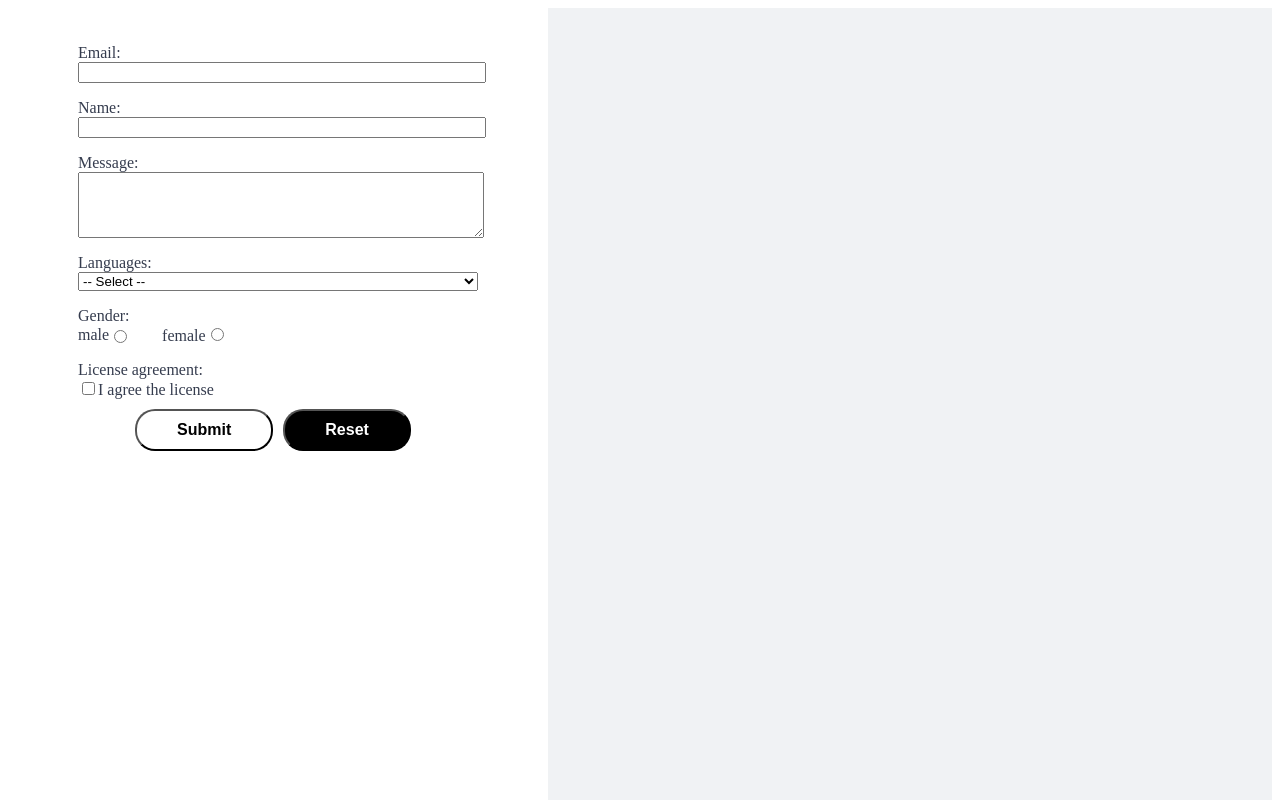
Test: App › resets the form when the reset button is clicked
Note: Fill in the form fields
Type "test@example.com" into the field labelled "Email:" at (282, 72), box [78,62,486,83]
Type "John Doe" into the field labelled "Name:" at (282, 128), box [78,117,486,138]
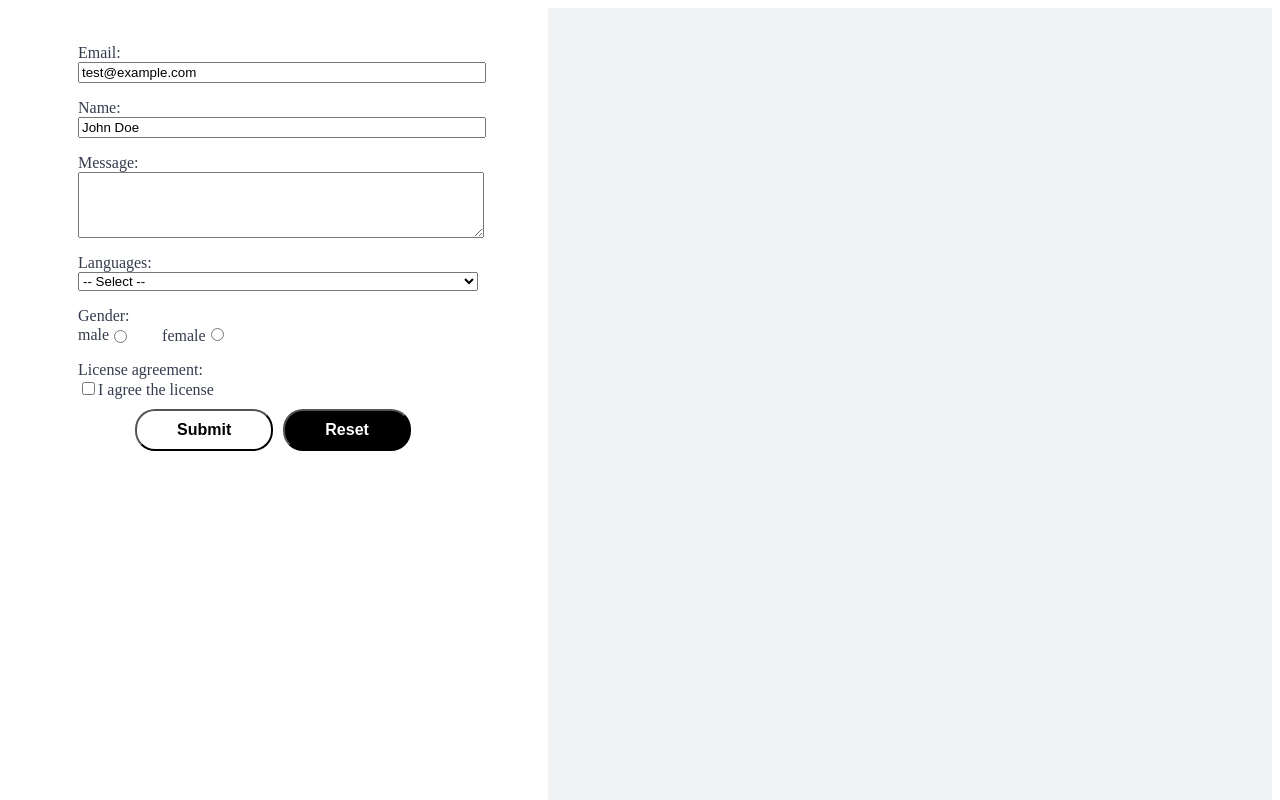
Type "Hello, World!" into the text box labelled "Message:" at (281, 205), box [78,172,484,238]
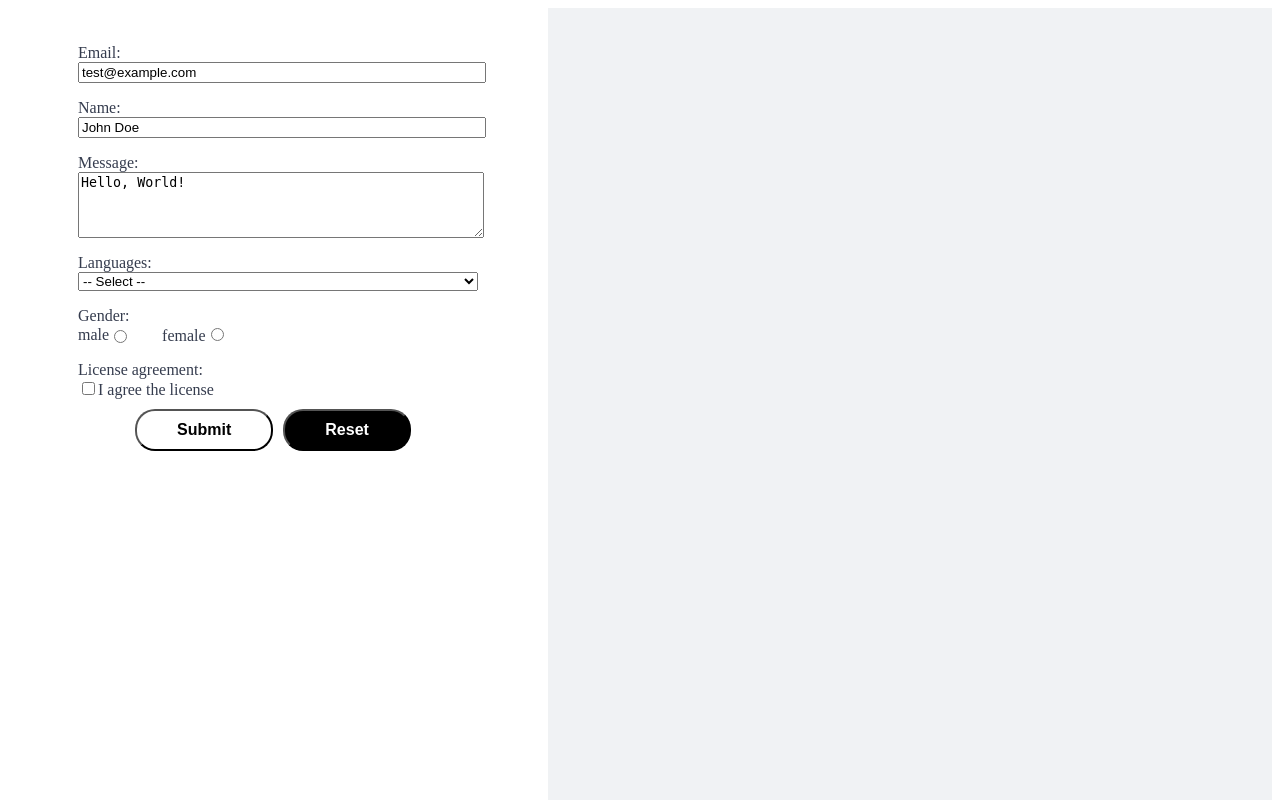
Select "English" in the dropdown labelled "Languages:" at (278, 282), box [78,272,478,291]
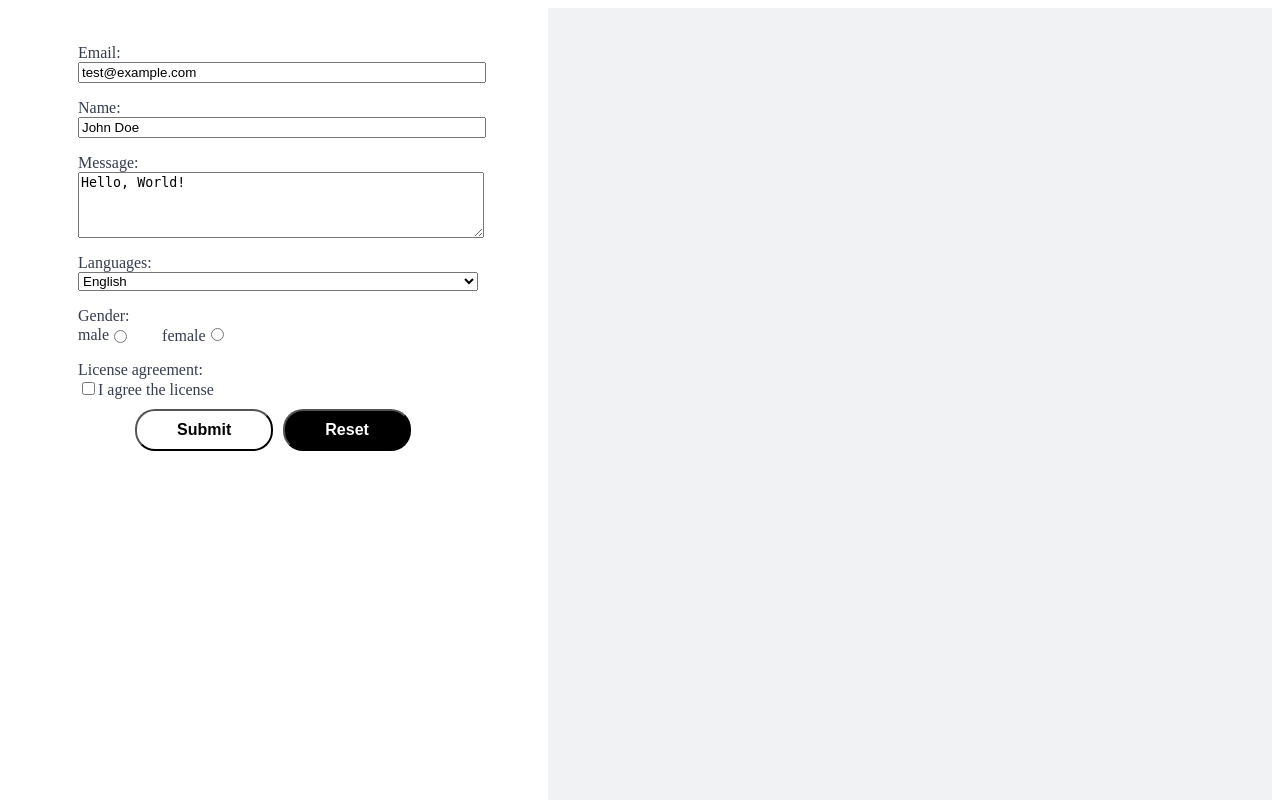
Click the radio button labelled "male" at (121, 336), box [114,330,127,343]
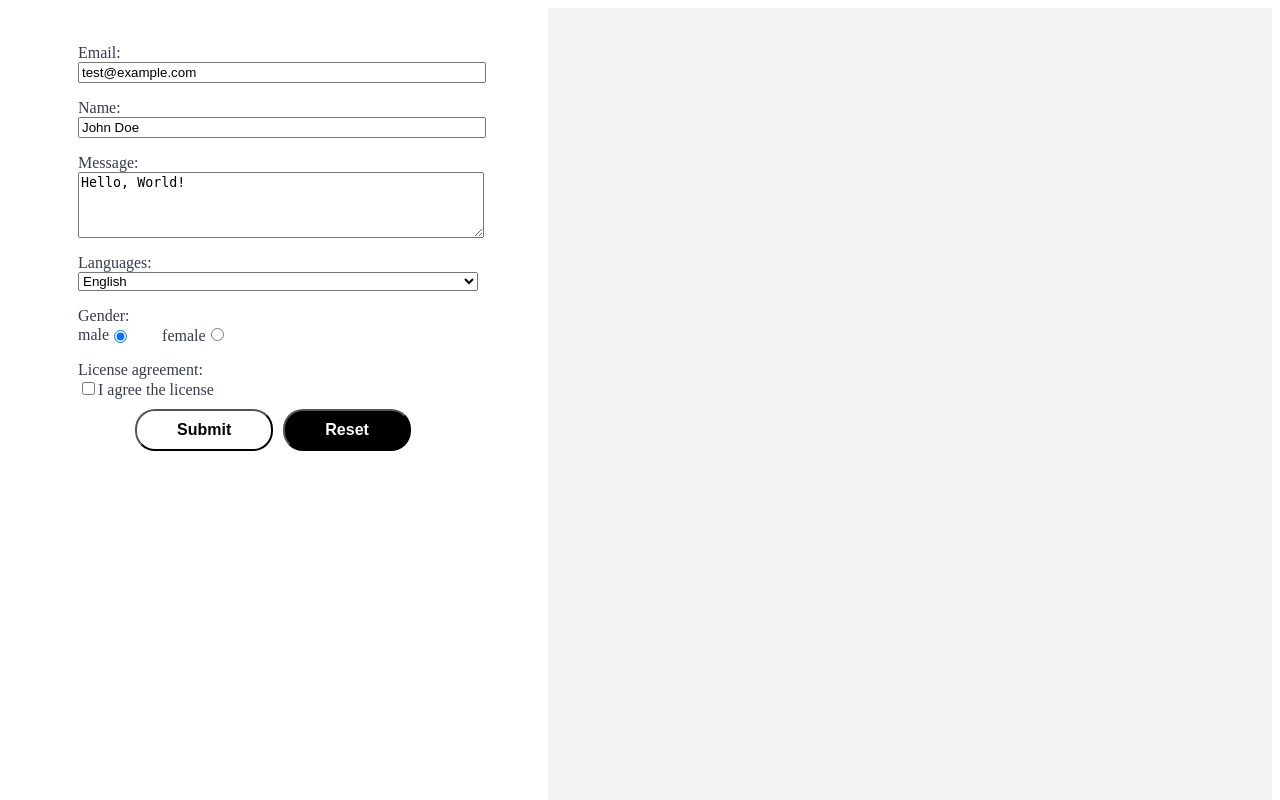
Click the checkbox labelled "License agreement:" at (88, 388), box [82,382,95,395]
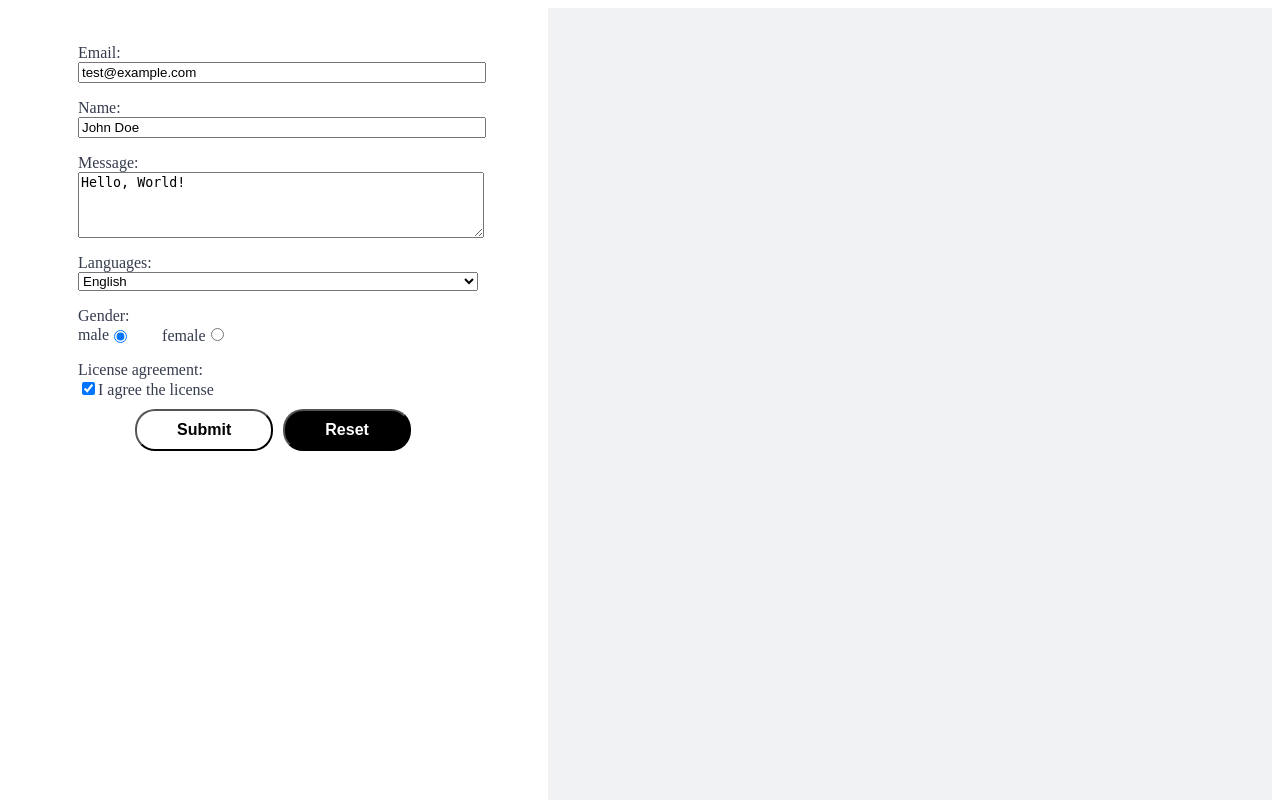
Note: Reset the form
Click the button with aria-label "reset the form" at (347, 430), box [283,409,411,451]
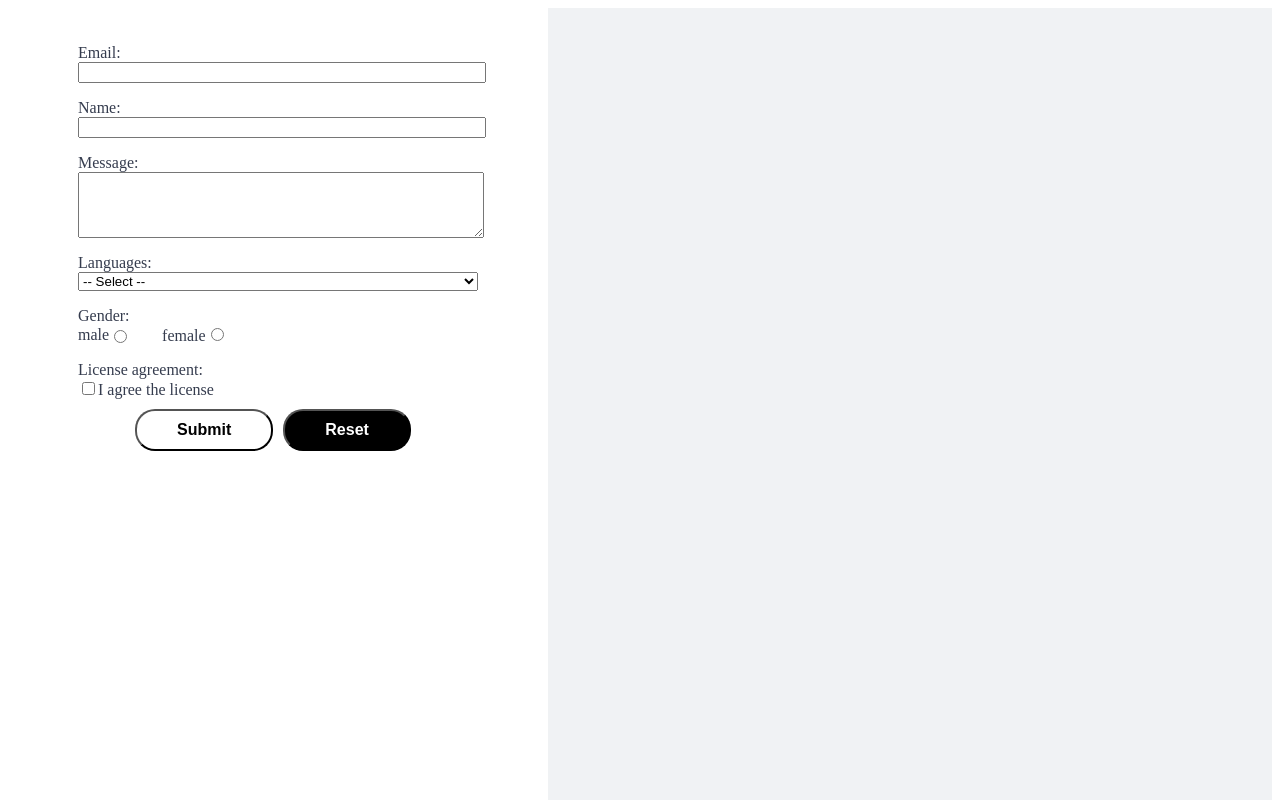
Check: the field labelled "Email:" is empty, box [78,62,486,83]
Check: the field labelled "Name:" is empty, box [78,117,486,138]
Check: the text box labelled "Message:" is empty, box [78,172,484,238]
